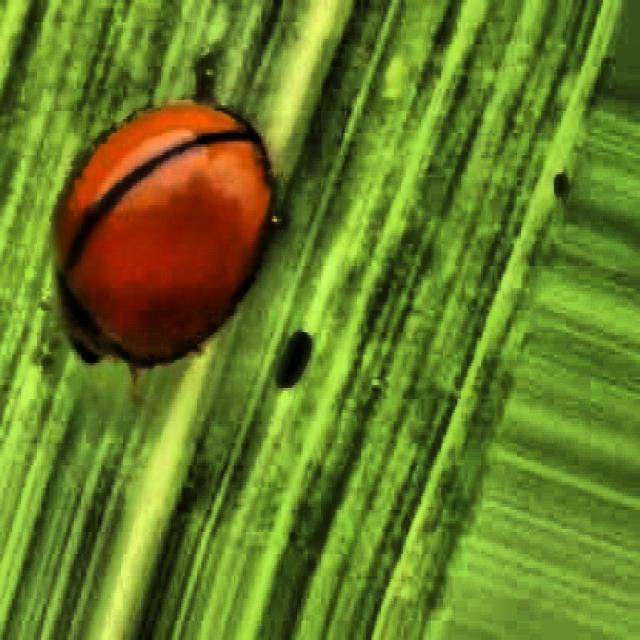Ladybug: (14, 22, 316, 456)
